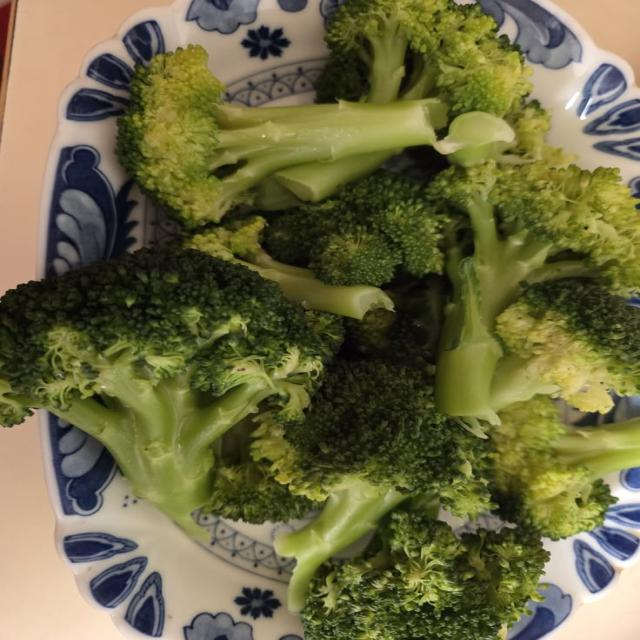broccoli: (0, 247, 342, 537), (253, 358, 491, 611), (116, 46, 446, 226), (427, 161, 639, 422), (315, 0, 531, 161), (301, 503, 548, 639), (316, 0, 531, 117), (184, 214, 393, 319), (490, 395, 639, 538), (265, 169, 447, 286), (492, 279, 639, 412), (203, 415, 319, 523)
